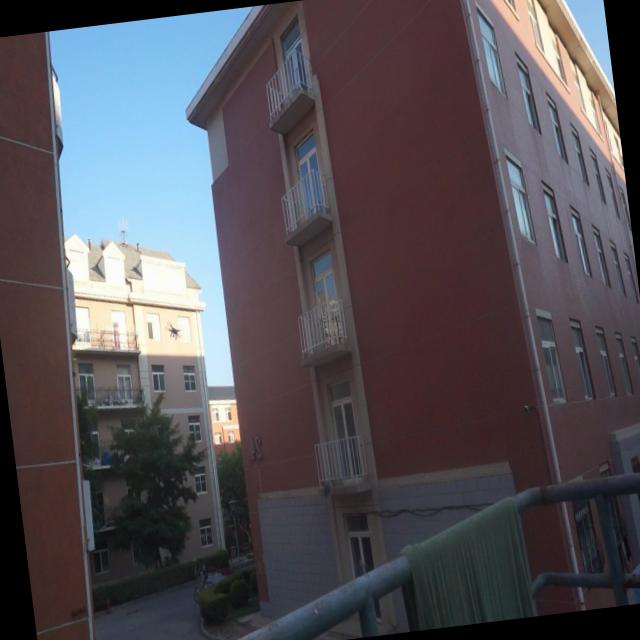drone: (164, 318, 185, 346)
